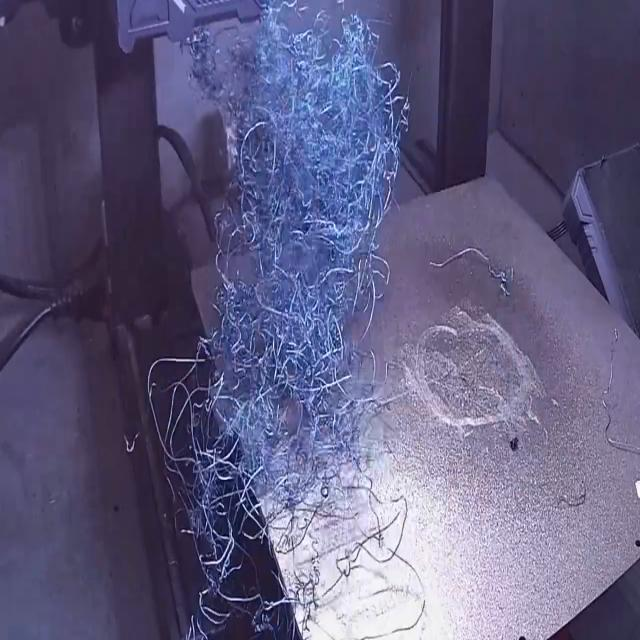spaghetti: (146, 5, 434, 640), (594, 321, 640, 488), (431, 237, 518, 306), (557, 484, 592, 518)
